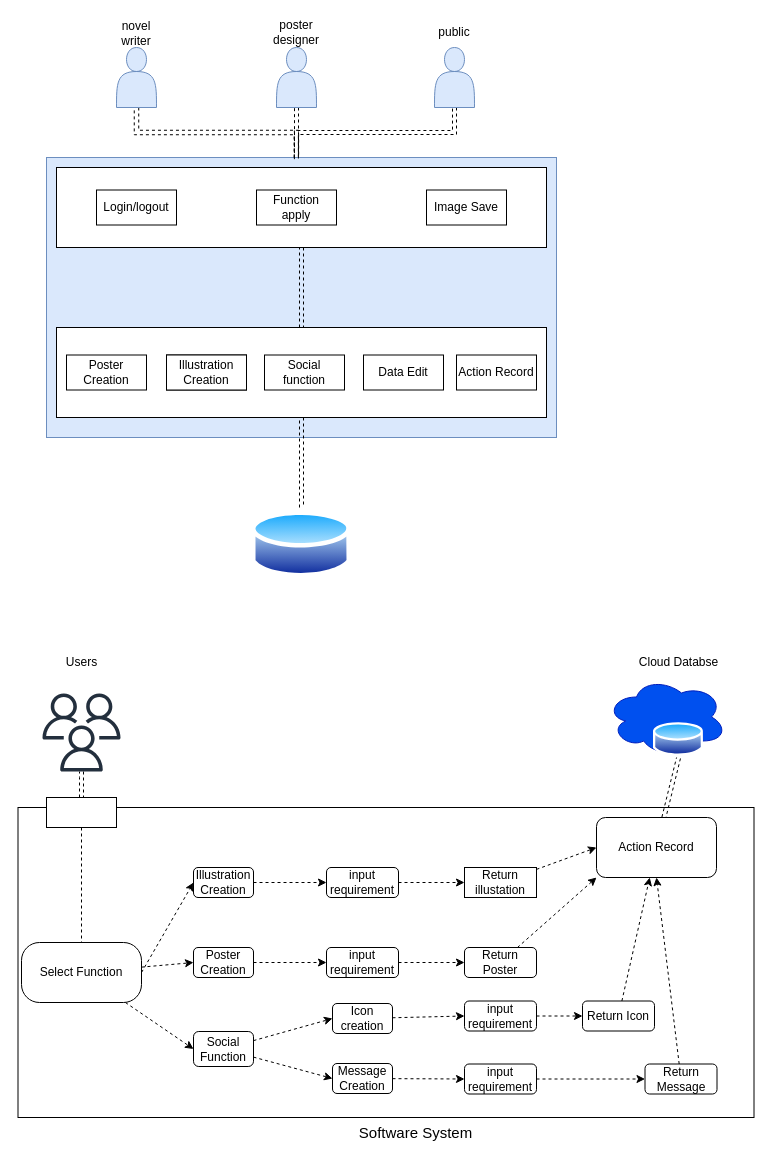
This 771x1164 diagram has some shape labels left out. Each missing label, with the centre of its shape:
"Cloud Database" goes at pixel 301 544.
"Login" goes at pixel 81 812.
